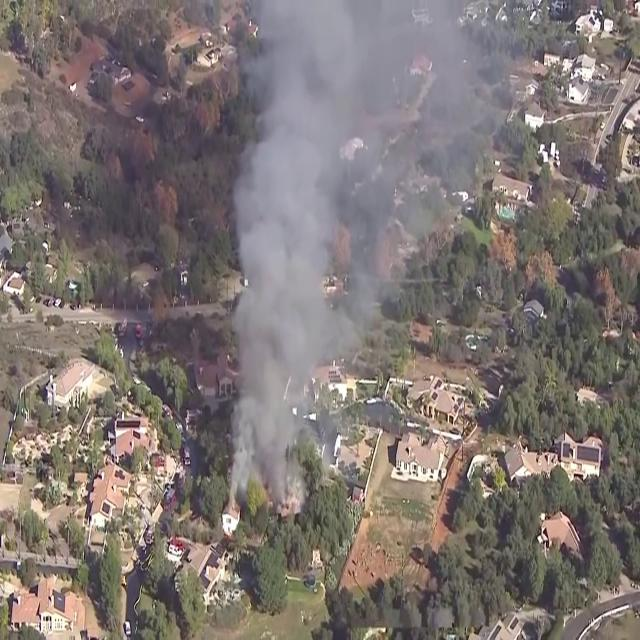Smoke: (224, 0, 408, 504)
